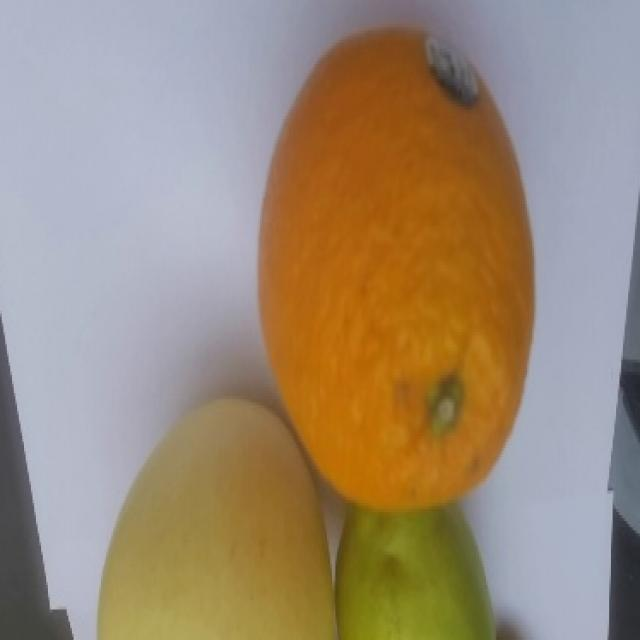Orange: (249, 24, 540, 518)
